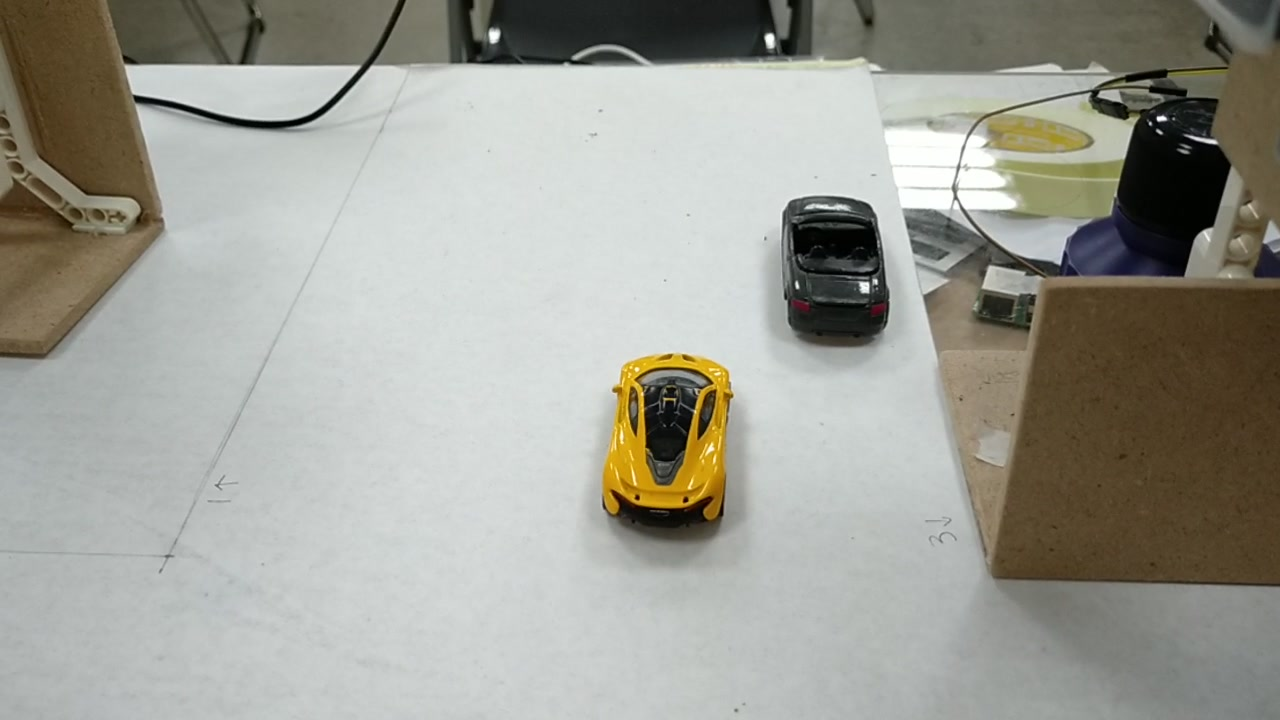car: (600, 357, 735, 519), (784, 197, 886, 324)
